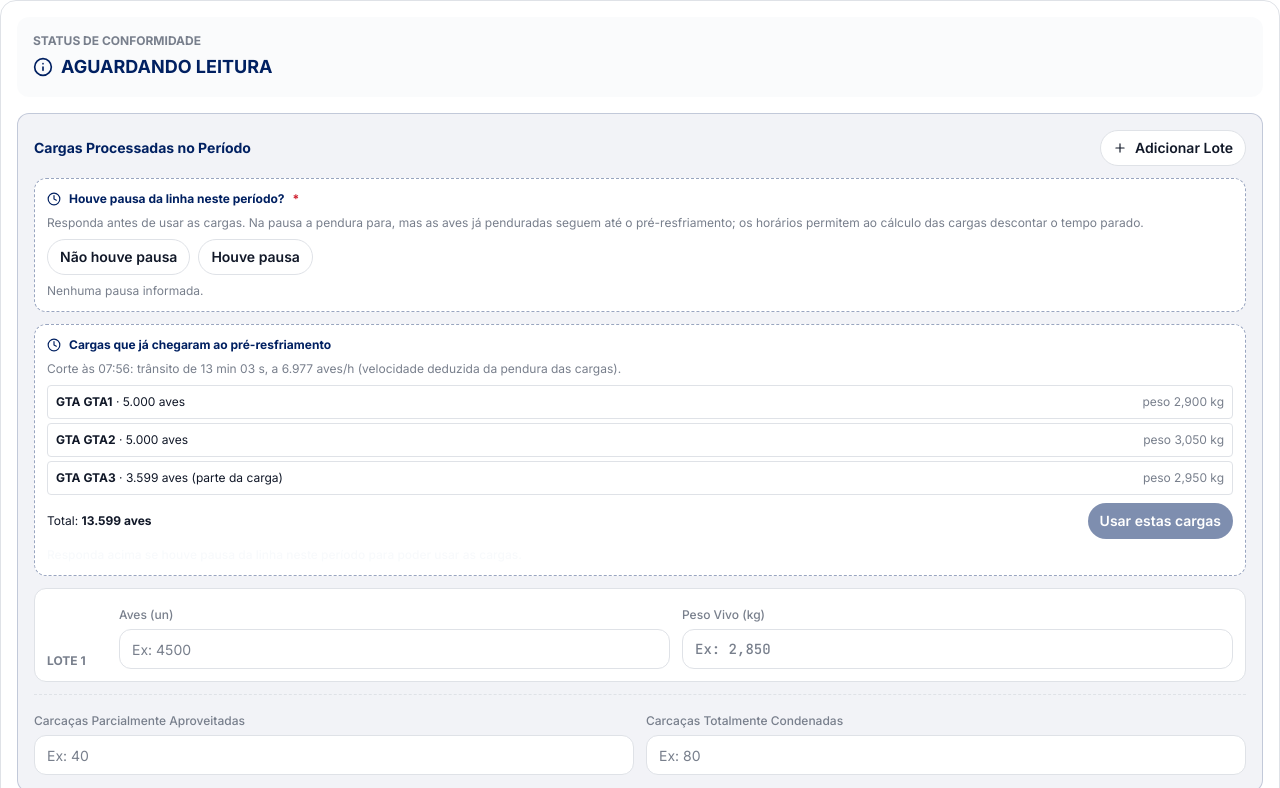
Test: SPR Carcaças: cargas pela chegada ao pré-resfriamento e peso pendente › pausa inválida é recusada com mensagem (fim antes do início; depois da hora do monitoramento)
This screenshot has width=1280, height=788.
Click the button "Houve pausa" at (256, 257), box [198,239,313,275]
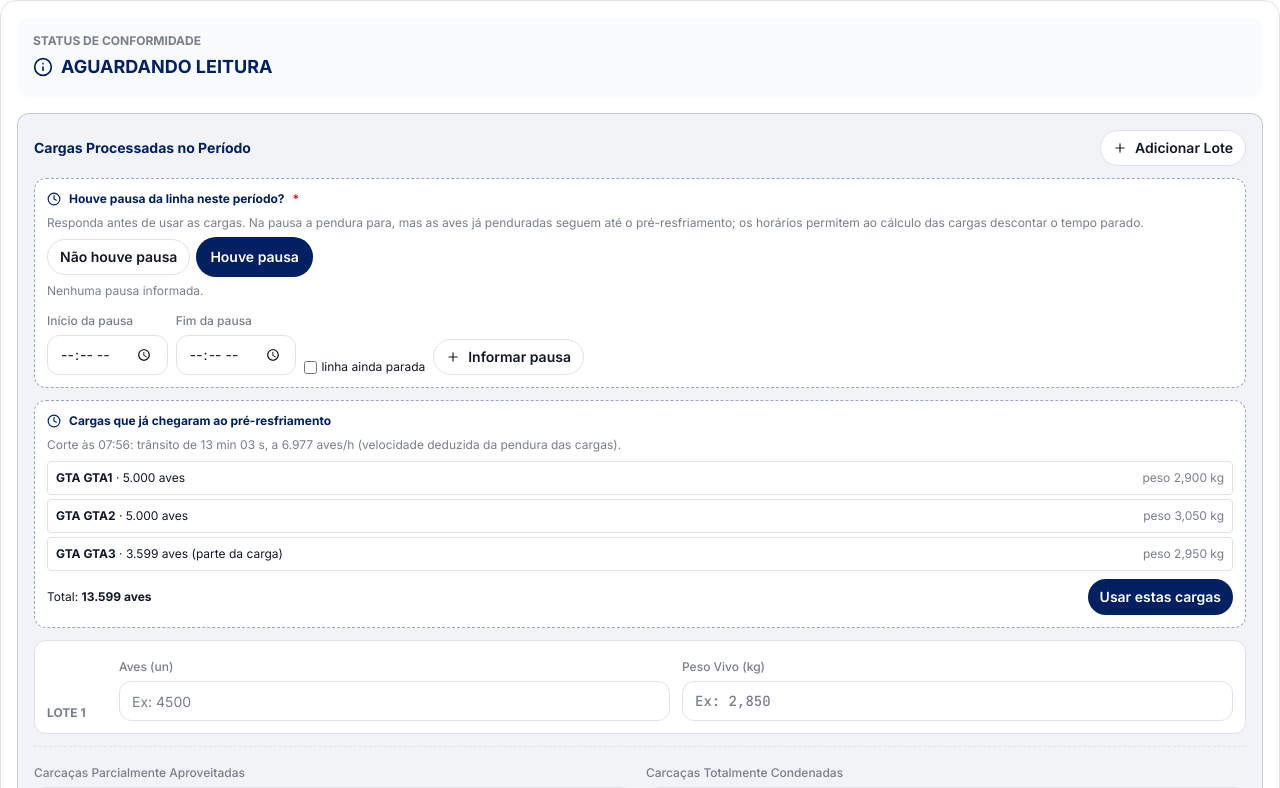
Type "07:00" into the time field labelled "Início da pausa" at (107, 355), box [47,335,168,375]
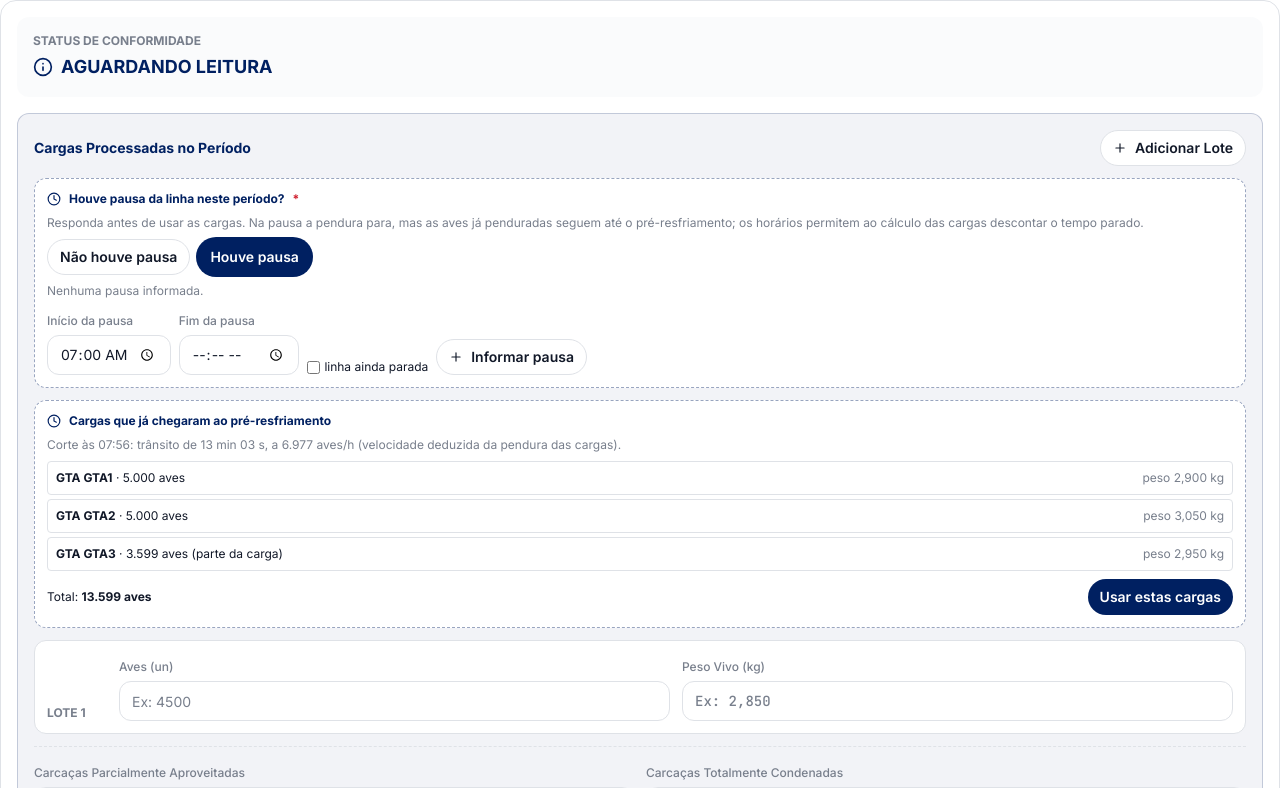
Type "06:50" into the time field labelled "Fim da pausa" at (239, 355), box [179,335,299,375]
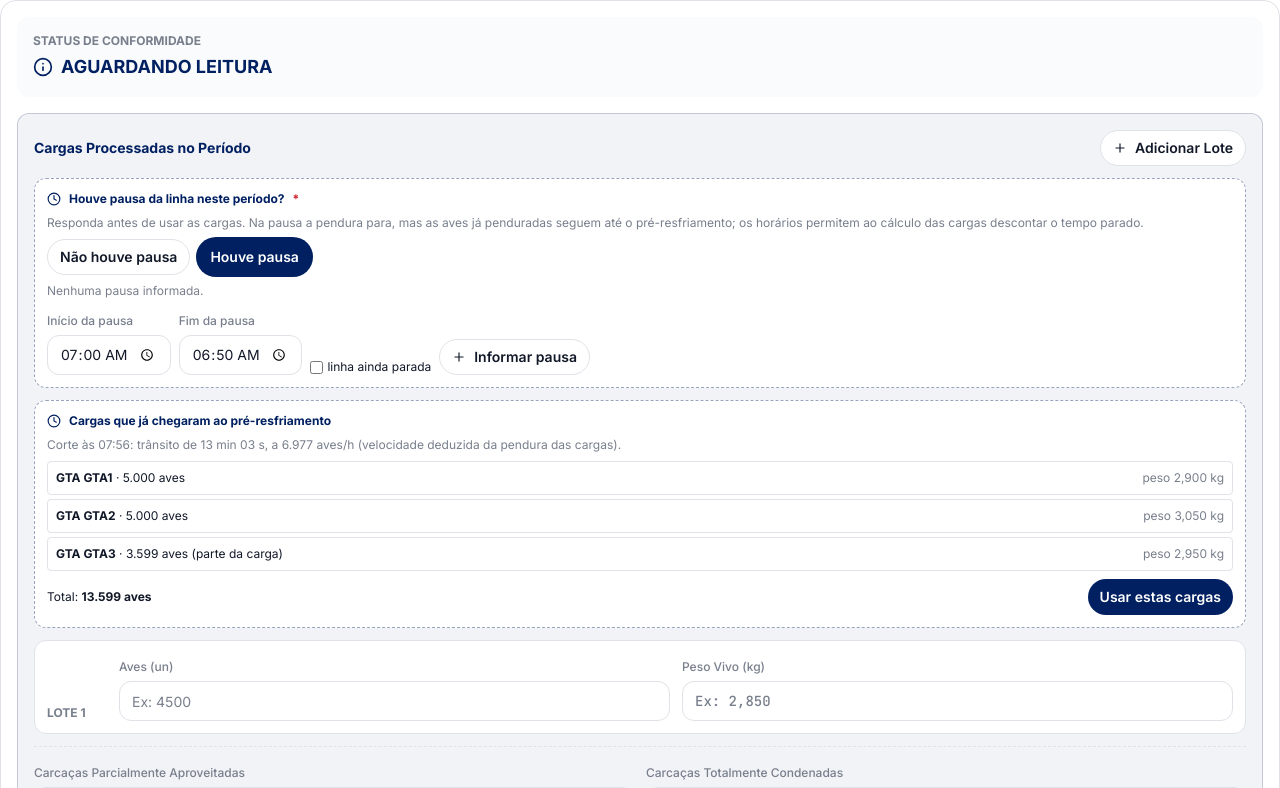
Click the button "Informar pausa" at (515, 357), box [439,339,590,375]
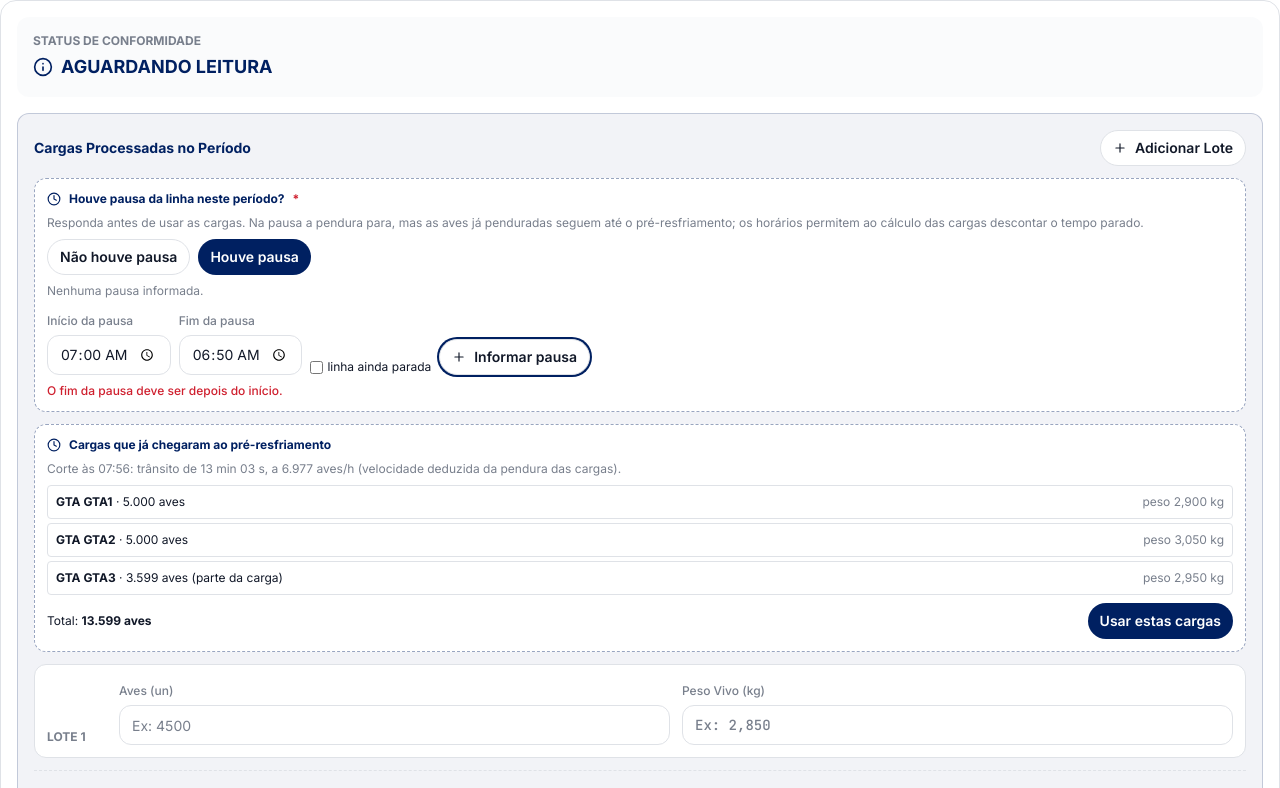
Now the message shows "fim da pausa deve ser depois", box [47,383,283,398]
Replace the text in the time field labelled "Início da pausa" with "09:00" at (109, 355), box [47,335,171,375]
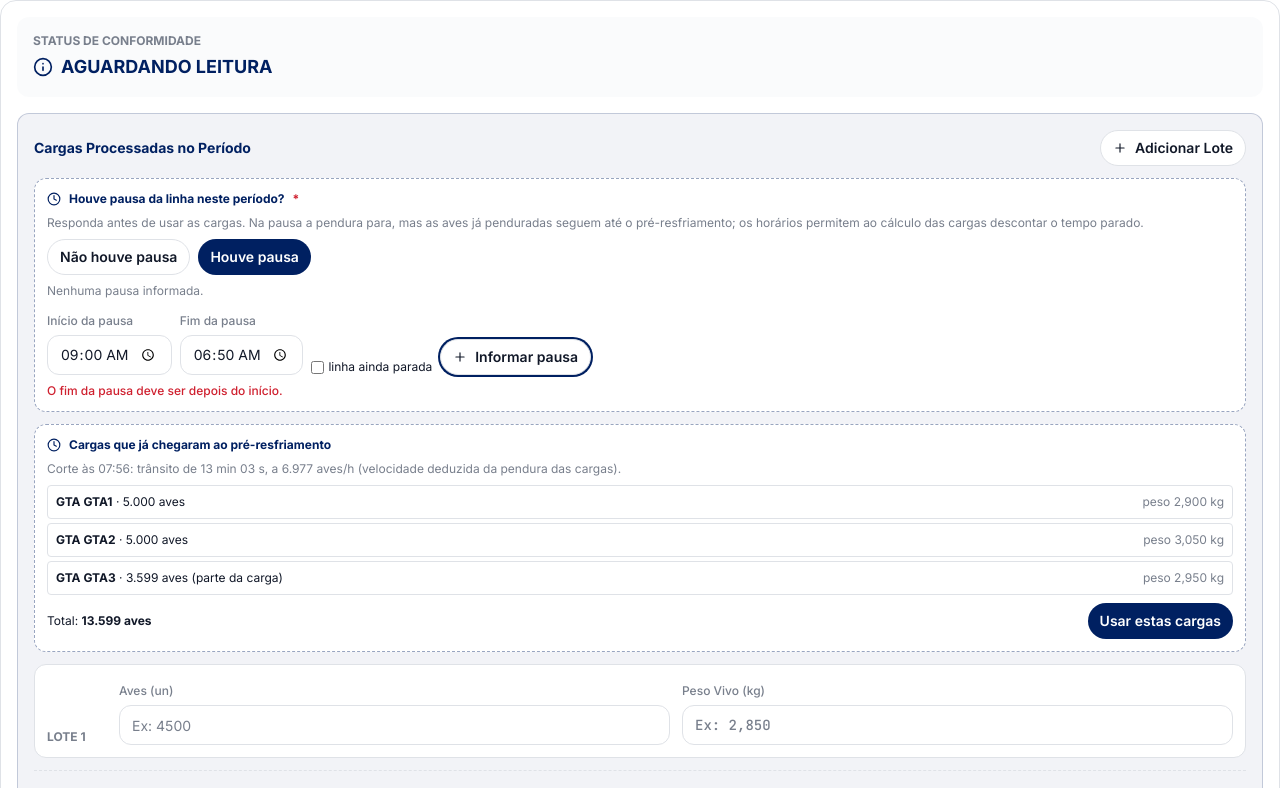
Replace the text in the time field labelled "Fim da pausa" with "09:10" at (242, 355), box [180,335,303,375]
Click the button "Informar pausa" at (516, 357), box [440,339,591,375]
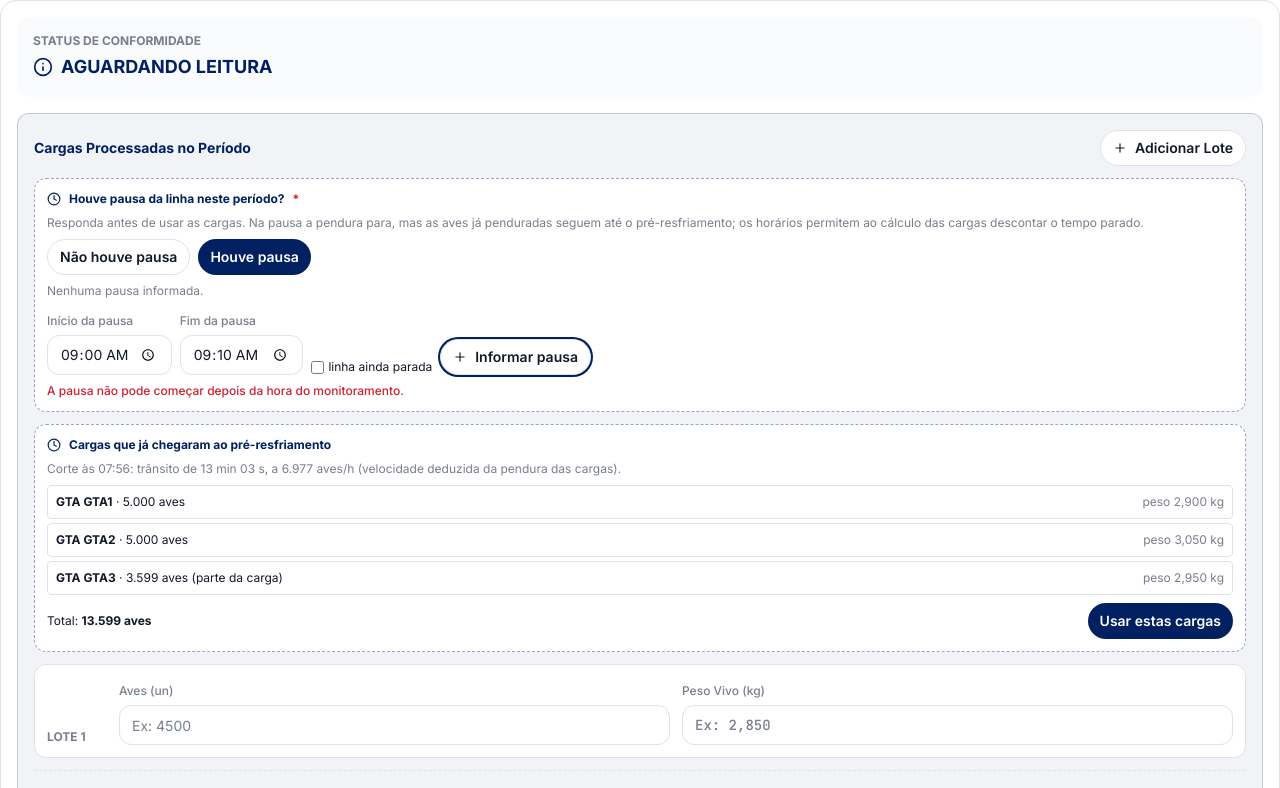
Now the message shows "depois da hora do monitoramento", box [47,383,404,398]
